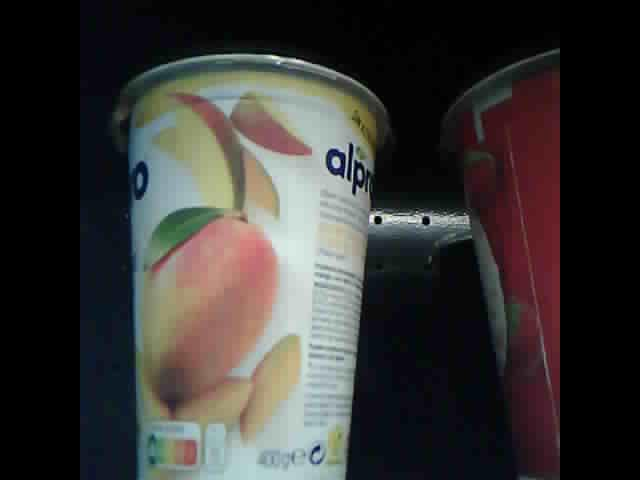alpro: (109, 52, 388, 479), (437, 48, 560, 479)
